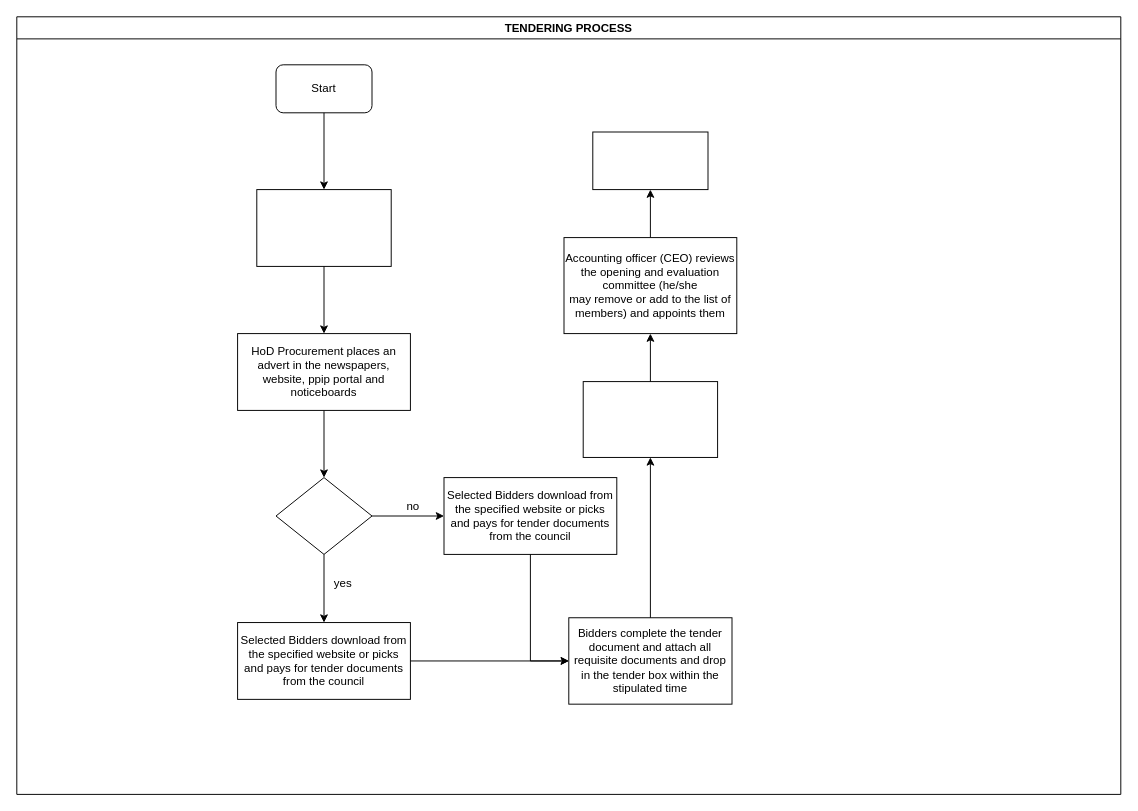
Some shapes in this 1138 by 811 pixel diagram are drawn without their labels. The shapes that lost their labels are listed below. From the top down, each one's centre as x and y in pixels, then its label:
At [650,160]: "Opening committee convenes to open the tenders".
At [323,227]: "Preparation of tender document by HOD procurement or procurement Officer".
At [650,419]: "HOD procurement recommends Opening and evaluation committee for appointment".
At [323,515]: "Restricted Tender?".
